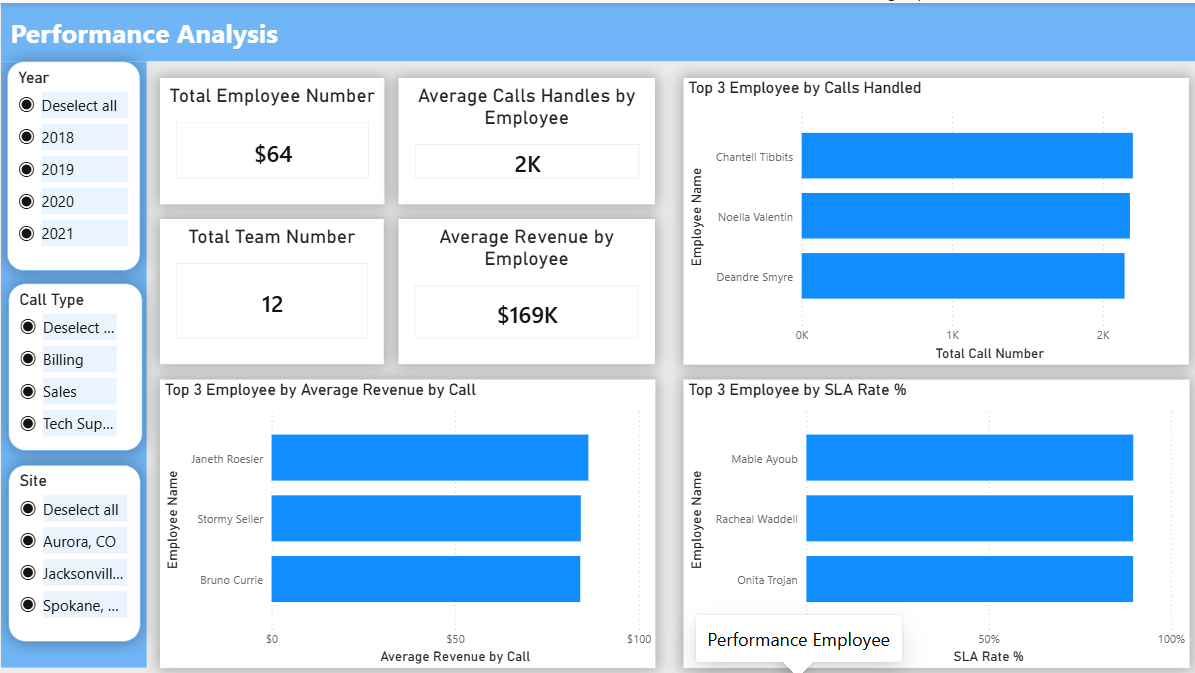

What the dashboard file says about the page in this screenshot:
{"tool":"powerbi","page":{"name":"Performance Employee ","canvas":[1280,720],"ordinal":3},"visuals":[{"type":"shape","box":[0,0,1279.4,61.8],"z":0},{"type":"shape","box":[0,61.8,154.4,642.6],"z":2000},{"type":"listSlicer","fields":{"Values":["Date.Year"]},"box":[5.9,61.8,141.2,222.1],"z":3000},{"type":"listSlicer","fields":{"Values":["Dim Call Types.Call Type"]},"box":[7.6,296.7,141.7,177.6],"z":5000},{"type":"listSlicer","fields":{"Values":["Dim Employees.Site"]},"box":[7.6,489.5,139.8,187.1],"z":6000},{"type":"cardVisual","title":"Total Employee Number","fields":{"Data":["Model Measures.Total Employee"]},"box":[168.2,79.4,238.1,134.2],"z":6001},{"type":"cardVisual","title":"Total Team Number","fields":{"Data":["Model Measures.Total Team"]},"box":[168.6,229,237,154.3],"z":6002},{"type":"cardVisual","title":"Average Calls Handles by Employee","fields":{"Data":["Model Measures.Average Calls by Employee"]},"box":[421.4,79.4,272.1,134.2],"z":6003},{"type":"cardVisual","title":"Average Revenue by Employee","fields":{"Data":["Model Measures.Average Revenue by Employee"]},"box":[421.5,229,272,154.3],"z":6004},{"type":"clusteredBarChart","title":"Top 3 Employee by Average Revenue by Call","fields":{"Category":["Dim Employees.Employee Name"],"Y":["Model Measures.Average Revenue by Call"]},"box":[168.2,398.7,525.4,306.1],"z":6005},{"type":"clusteredBarChart","title":"Top 3 Employee by SLA Rate %","fields":{"Category":["Dim Employees.Employee Name"],"Y":["Model Measures.SLA Rate %"]},"box":[723.8,398.7,536.7,306.1],"z":6006},{"type":"clusteredBarChart","title":"Top 3 Employee by Calls Handled","fields":{"Category":["Dim Employees.Employee Name"],"Y":["Model Measures.Total Call Number"]},"box":[723.7,79.5,536,303.8],"z":6007}]}

Visuals, with their boxes in screenshot pixels (x1, y1, x2, y2), scaled from the page's 1280x720 canvas onto the 1195x673 screenshot:
shape: locate(0, 0, 1194, 58)
shape: locate(0, 58, 144, 658)
listSlicer - Date.Year: locate(6, 58, 137, 265)
listSlicer - Dim Call Types.Call Type: locate(7, 277, 139, 443)
listSlicer - Dim Employees.Site: locate(7, 458, 138, 632)
"Total Employee Number" cardVisual: locate(157, 74, 379, 200)
"Total Team Number" cardVisual: locate(157, 214, 379, 358)
"Average Calls Handles by Employee" cardVisual: locate(393, 74, 647, 200)
"Average Revenue by Employee" cardVisual: locate(394, 214, 647, 358)
"Top 3 Employee by Average Revenue by Call" clusteredBarChart: locate(157, 373, 648, 659)
"Top 3 Employee by SLA Rate %" clusteredBarChart: locate(676, 373, 1177, 659)
"Top 3 Employee by Calls Handled" clusteredBarChart: locate(676, 74, 1176, 358)
